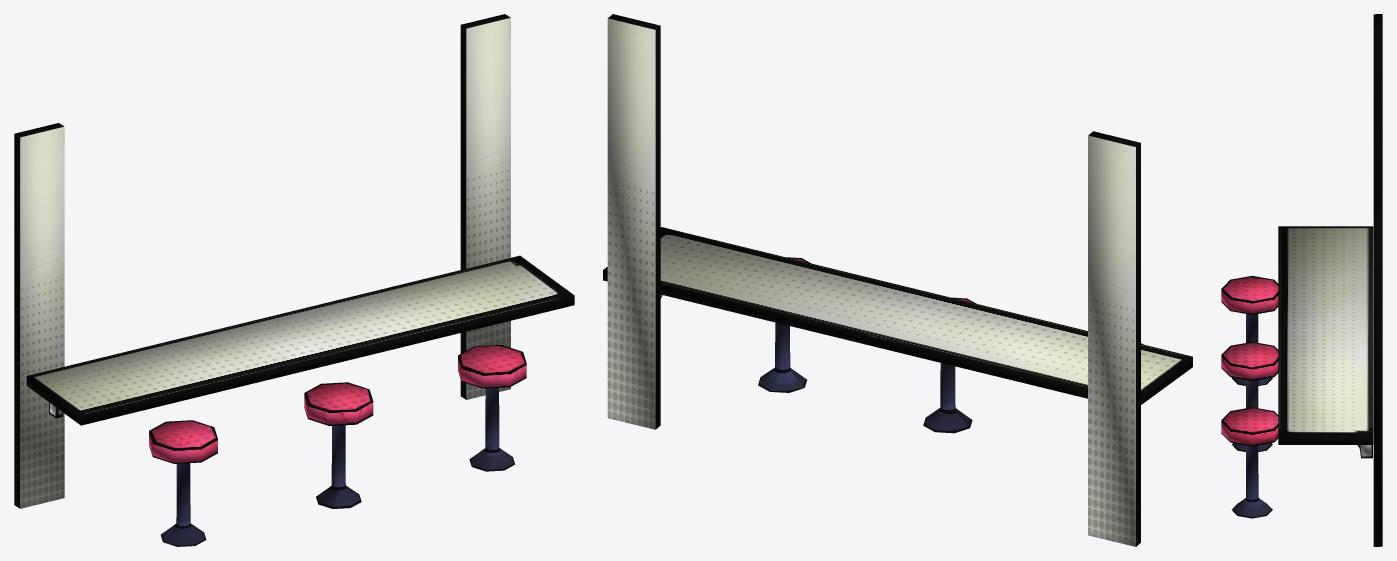
Rendered from Countertop.glb.
3 renders of one model, left to right at view 1: azimuth 30°, elevation 25°; view 2: azimuth 150°, elevation 25°; view 3: azimuth 270°, elevation 25°, orthographic. The views are drawn at different scales.
Visible parts, largest first — view 1: Cube.006, Cylinder, Cylinder.002, Cylinder.001; view 2: Cube.006, Cylinder.001, Cylinder.002; view 3: Cube.006, Cylinder.002, Cylinder.001, Cylinder.
Part boxes in pixels (box(x1,y1,x2,y2)): Cube.006: box(14, 14, 574, 508); Cylinder: box(149, 420, 217, 546); Cylinder.002: box(458, 345, 526, 471); Cylinder.001: box(304, 382, 373, 508); Cube.006: box(603, 14, 1192, 546); Cylinder.001: box(923, 297, 976, 433); Cylinder.002: box(758, 257, 811, 392); Cube.006: box(1278, 14, 1382, 546); Cylinder.002: box(1221, 407, 1278, 518); Cylinder.001: box(1221, 342, 1278, 451); Cylinder: box(1221, 276, 1278, 385).
Size of the model in its own units: 75.55 by 53.63 by 24.23.
1 material, 1 textured.
